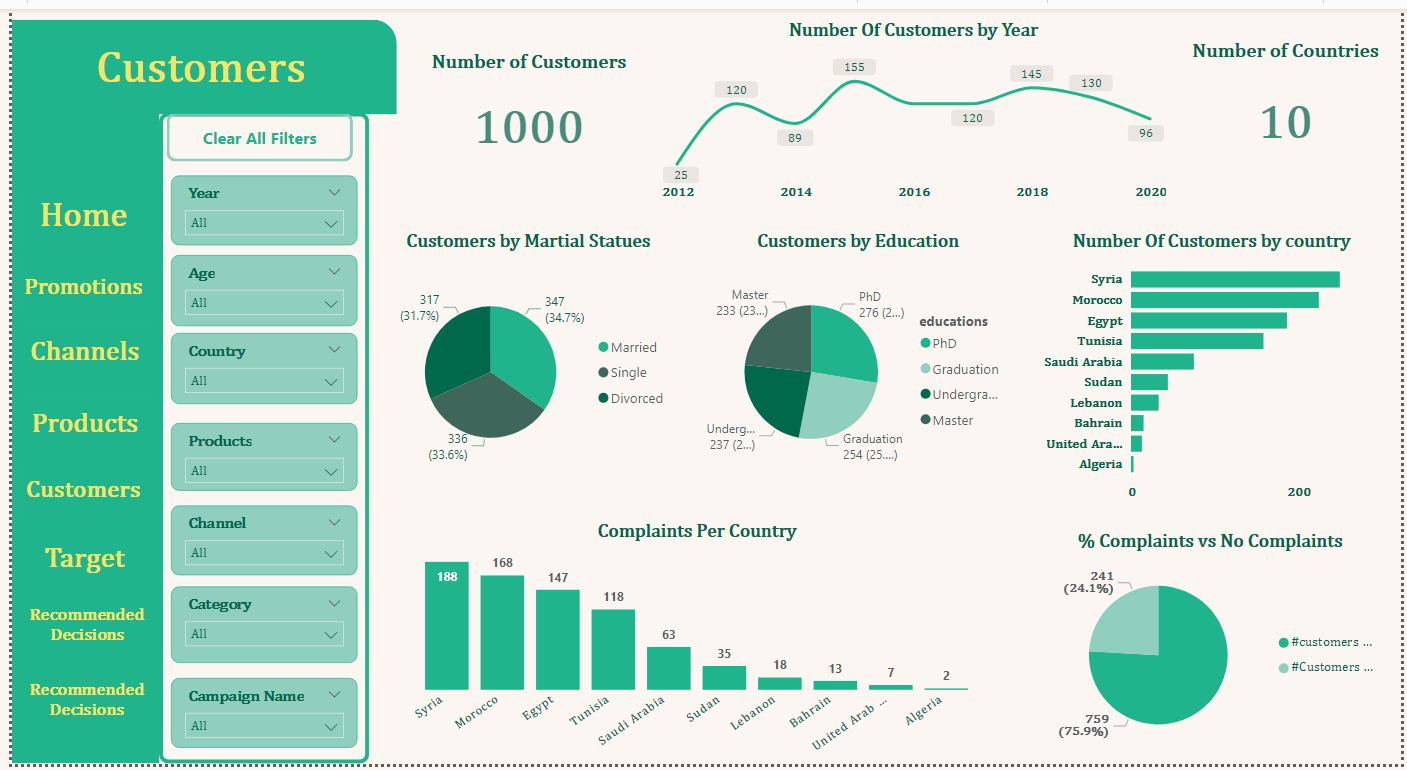

What the dashboard file says about the page in this screenshot:
{"tool":"powerbi","page":{"name":"Customer","canvas":[1380,750],"ordinal":4},"visuals":[{"type":"card","title":"Number of Customers","fields":{"Values":["DAX_Measures.Number Of Customers"]},"box":[397.7,42.1,230.8,123],"z":0},{"type":"columnChart","title":"Complaints Per Country","fields":{"Category":["Customer.country"],"Y":["DAX_Measures.Number of customers who complained"]},"box":[382.5,508.9,594.8,241],"z":1000},{"type":"lineChart","fields":{"Y":["DAX_Measures.Number Of Customers"],"Category":["Customer.dt_of_enroll.Variation.Date Hierarchy.Year"]},"box":[640.3,10.1,512.2,185.3],"z":2000},{"type":"barChart","fields":{"Category":["Customer.country"],"Y":["DAX_Measures.Number Of Customers"]},"box":[1004.2,220.7,374.1,273],"z":3000},{"type":"pieChart","title":"Customers by Martial Statues","fields":{"Y":["DAX_Measures.Number Of Customers"],"Category":["Customer.martial statues"]},"box":[364,220.7,298.2,261.2],"z":4000},{"type":"pieChart","title":"Customers by Education","fields":{"Y":["DAX_Measures.Number Of Customers"],"Category":["Customer.educations"]},"box":[680.7,220.7,318.5,261.2],"z":5000},{"type":"pieChart","title":"% Complaints vs No Complaints","fields":{"Y":["DAX_Measures.Number of customers who complained","DAX_Measures.Number of customers who Not complained"]},"box":[1016,519,350.5,227.5],"z":6000},{"type":"card","title":"Number of Countries","fields":{"Values":["Dax_Measures.Total Countries"]},"box":[1164.3,32,202.2,133.1],"z":7000},{"type":"shape","box":[146.6,102.8,208.9,647],"z":8000},{"type":"slicer","fields":{"Values":["Dimdate.date.Variation.Date Hierarchy.Year"]},"box":[158.4,165.1,185.3,69.1],"z":9000},{"type":"slicer","fields":{"Values":["Customer.Age"]},"box":[158.4,244.3,185.3,70.8],"z":10000},{"type":"slicer","fields":{"Values":["Customer.country"]},"box":[158.4,321.8,185.3,70.8],"z":11000},{"type":"slicer","fields":{"Values":["Products.Products"]},"box":[158.4,411.1,185.3,67.4],"z":12000},{"type":"slicer","fields":{"Values":["place.name"]},"box":[158.4,493.7,185.3,69.1],"z":13000},{"type":"slicer","fields":{"Values":["Products.Category"]},"box":[158.4,574.6,185.3,75.8],"z":14000},{"type":"slicer","fields":{"Values":["promotion.name"]},"box":[158.4,665.6,185.3,69.1],"z":15000},{"type":"actionButton","box":[153.3,102.8,185.3,48.9],"z":16000},{"type":"shape","box":[0,89.3,146.6,660.5],"z":17000},{"type":"shape","box":[0,10.1,382.5,94.4],"z":18000},{"type":"actionButton","box":[6.7,178.6,126.4,55.6],"z":19000},{"type":"actionButton","box":[6.7,249.4,126.4,55.6],"z":20000},{"type":"actionButton","box":[8.4,315.1,126.4,55.6],"z":21000},{"type":"actionButton","box":[8.4,385.9,126.4,55.6],"z":22000},{"type":"actionButton","box":[6.7,449.9,126.4,55.6],"z":23000},{"type":"actionButton","box":[8.4,519,126.4,55.6],"z":24000},{"type":"actionButton","box":[8.3,576.2,130.8,74.5],"z":25000},{"type":"actionButton","box":[8.8,650.2,130.3,73.9],"z":26000}]}

Visuals, with their boxes in screenshot pixels (x1, y1, x2, y2), scaled from the page's 1380x750 canvas onto the 1407x770 screenshot:
"Number of Customers" card: 405:43:641:170
"Complaints Per Country" columnChart: 390:522:996:769
lineChart - DAX_Measures.Number Of Customers x Customer.dt_of_enroll.Variation.Date Hierarchy.Year: 653:10:1175:201
barChart - Customer.country x DAX_Measures.Number Of Customers: 1024:227:1405:507
"Customers by Martial Statues" pieChart: 371:227:675:495
"Customers by Education" pieChart: 694:227:1019:495
"% Complaints vs No Complaints" pieChart: 1036:533:1393:766
"Number of Countries" card: 1187:33:1393:170
shape: 149:106:362:769
slicer - Dimdate.date.Variation.Date Hierarchy.Year: 161:170:350:240
slicer - Customer.Age: 161:251:350:324
slicer - Customer.country: 161:330:350:403
slicer - Products.Products: 161:422:350:491
slicer - place.name: 161:507:350:578
slicer - Products.Category: 161:590:350:668
slicer - promotion.name: 161:683:350:754
actionButton: 156:106:345:156
shape: 0:92:149:769
shape: 0:10:390:107
actionButton: 7:183:136:240
actionButton: 7:256:136:313
actionButton: 9:324:137:381
actionButton: 9:396:137:453
actionButton: 7:462:136:519
actionButton: 9:533:137:590
actionButton: 8:592:142:668
actionButton: 9:668:142:743
